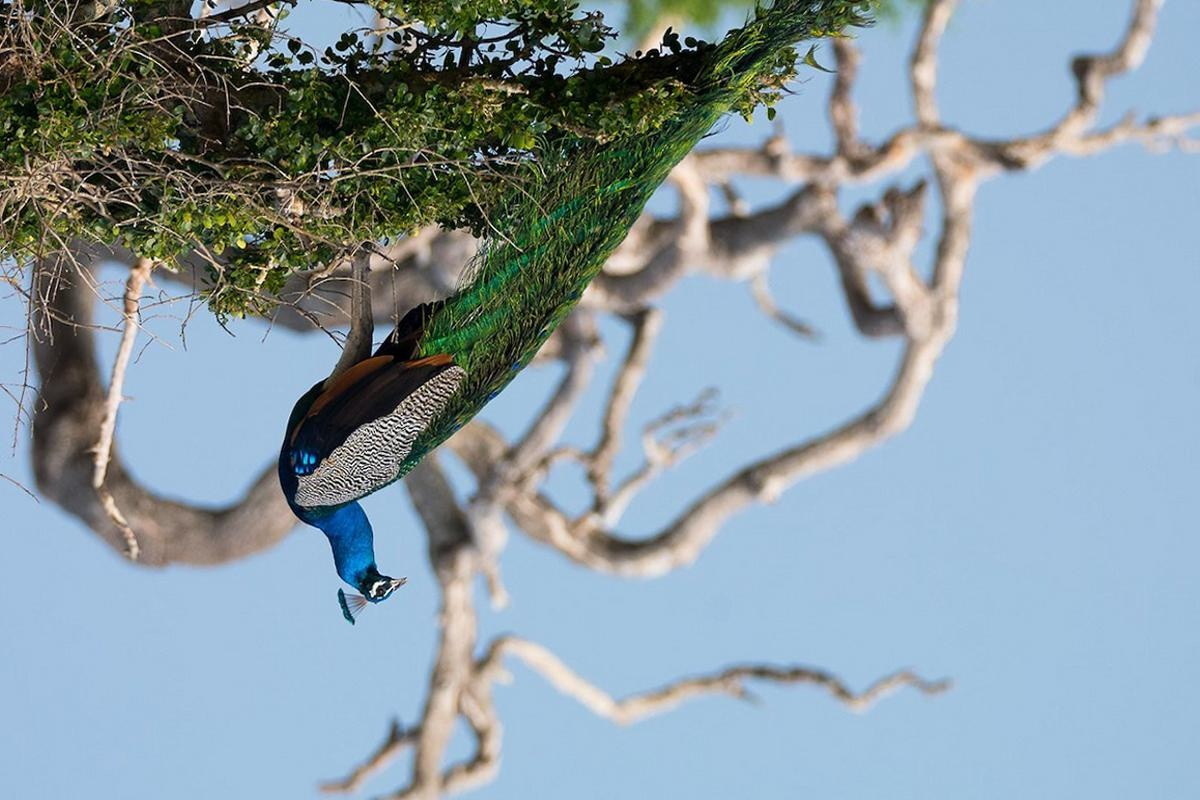peacock: (265, 73, 805, 642)
